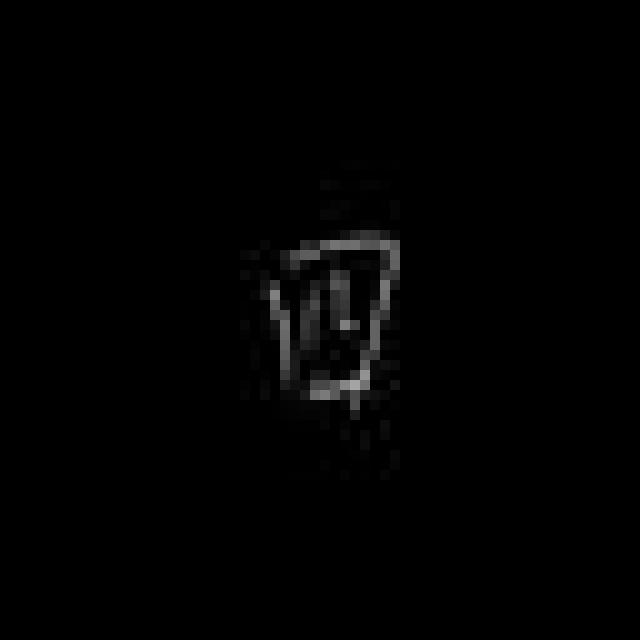4 -four-: (253, 222, 410, 420)
